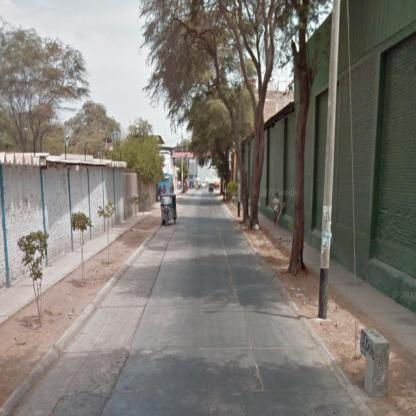Peaton: (274, 194, 282, 228)
Pista: (10, 228, 363, 416)
Vehiculo: (161, 194, 178, 227)
